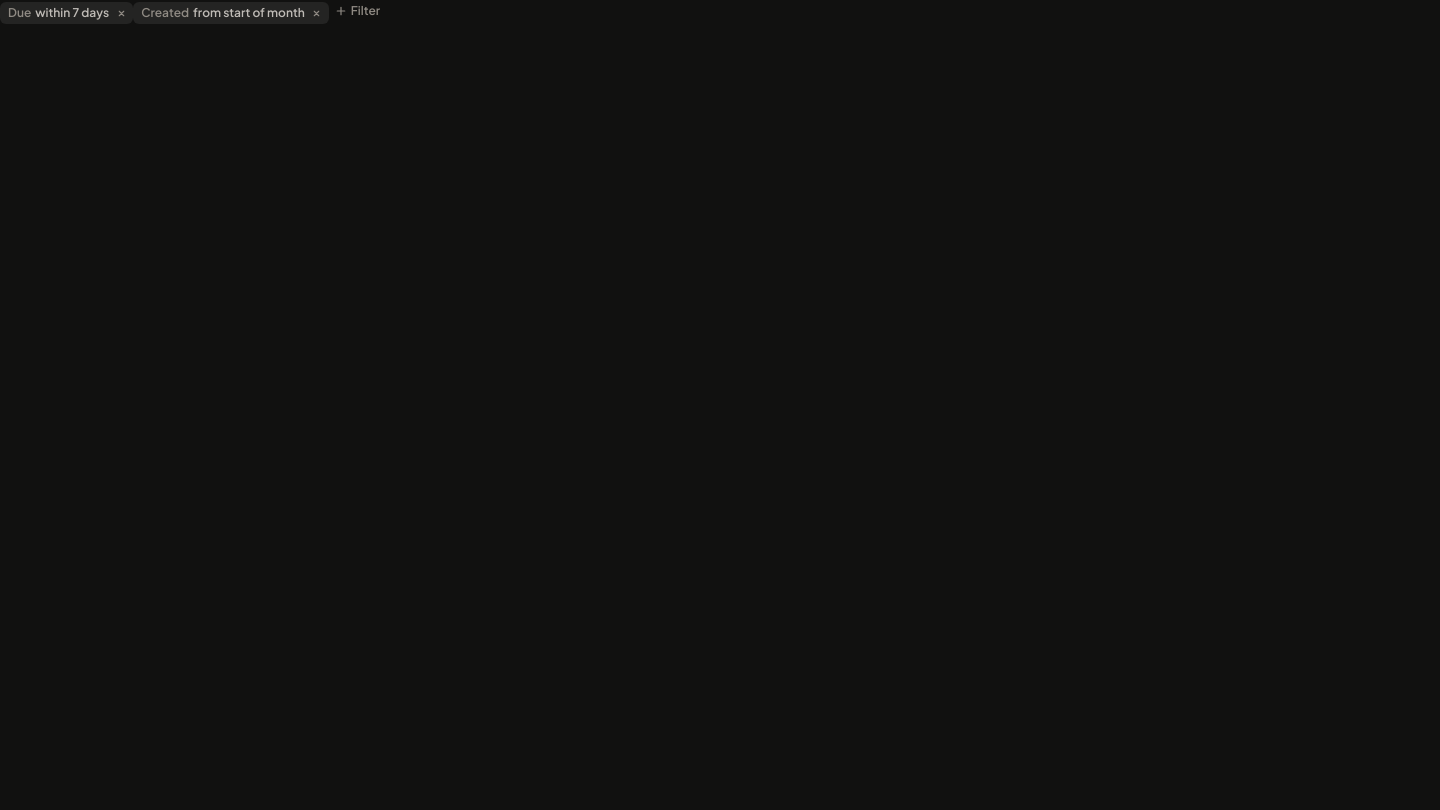
PredicateChips — date chips › clicking a chip opens the date panel on that chip’s type, and shows the chip open
The width and height of the screenshot is (1440, 810).
Click the button with test id "list-filter-chip" showing "Created from start of month" at (231, 13), box [133,2,329,24]
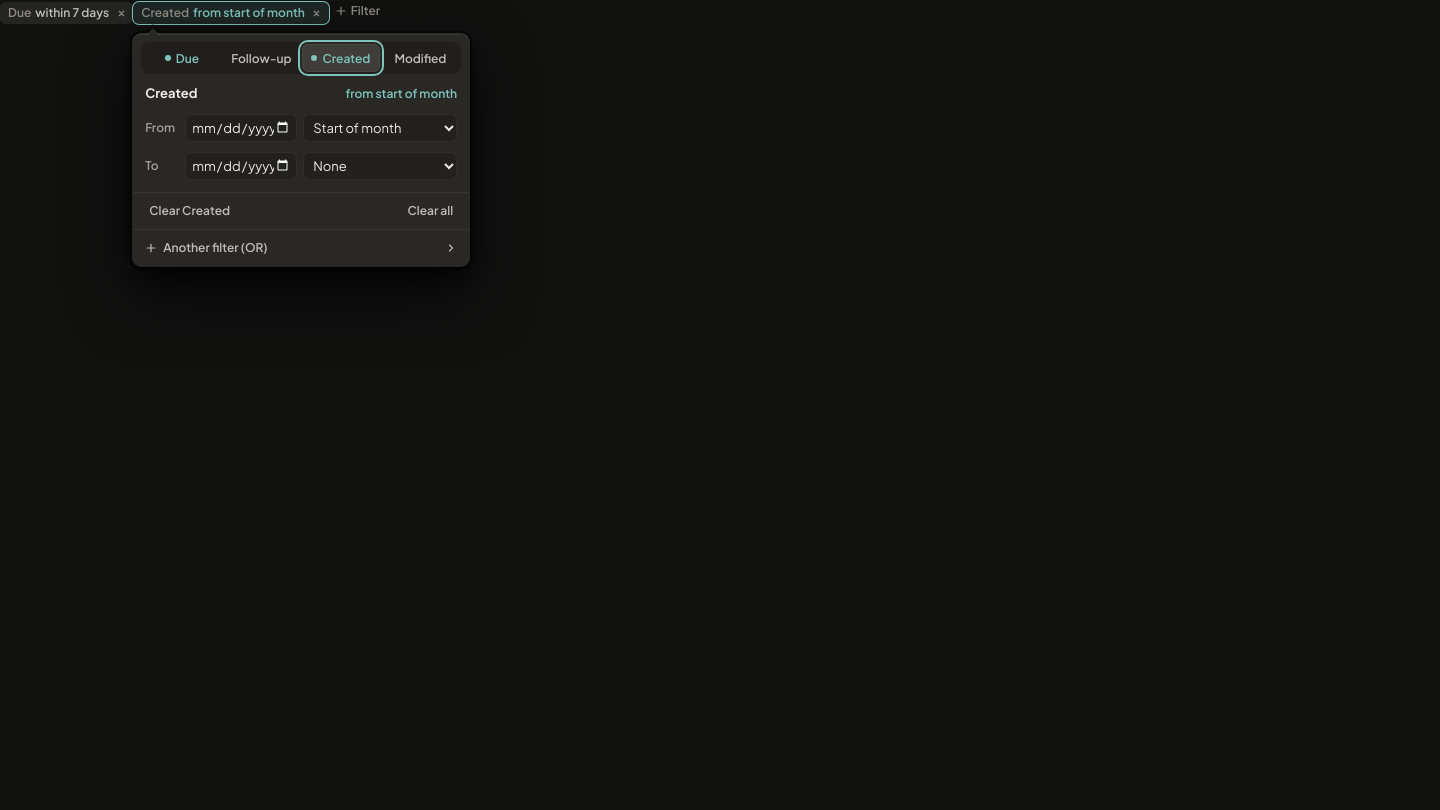
Expected: the button with test id "list-filter-chip" is expanded, [133,2,329,24]
